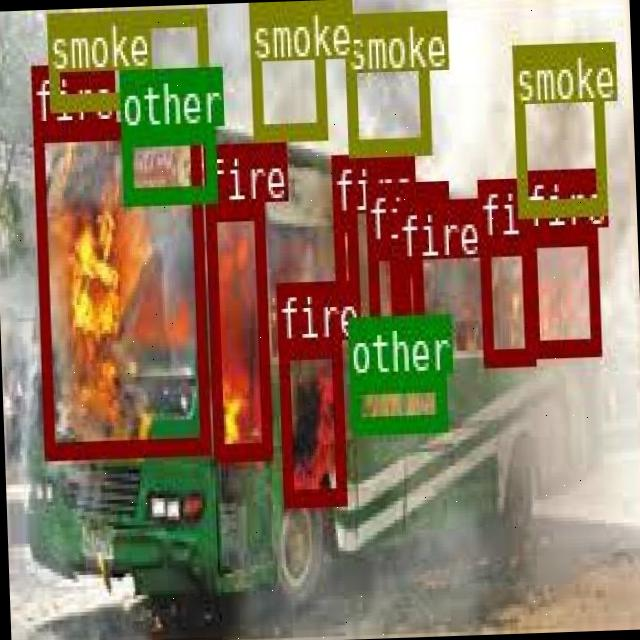fire: (31, 116, 208, 457), (203, 201, 271, 457), (276, 338, 344, 502), (524, 225, 599, 354), (478, 235, 532, 362), (368, 239, 402, 356), (332, 212, 358, 302), (399, 258, 423, 352)
smoke: (45, 5, 207, 109), (510, 41, 604, 212), (343, 10, 428, 151), (248, 0, 326, 139)
